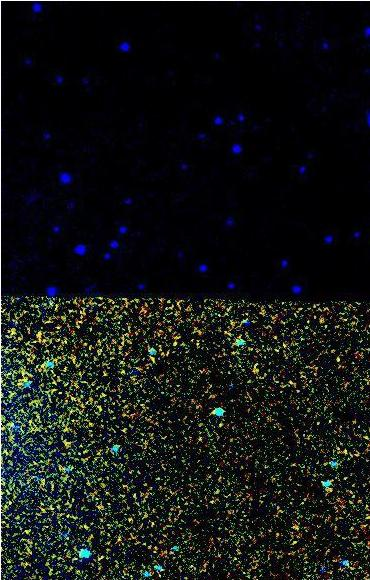star: (283, 517, 313, 547)
